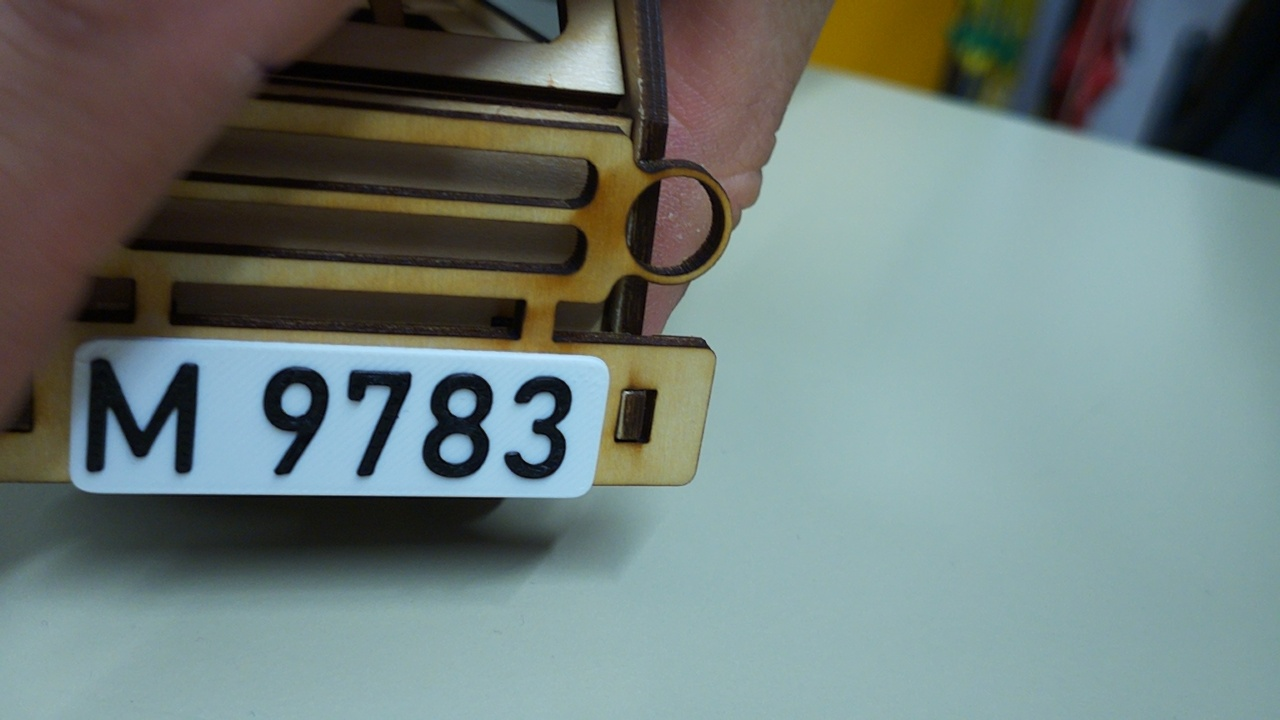license_plate: (65, 330, 613, 500)
